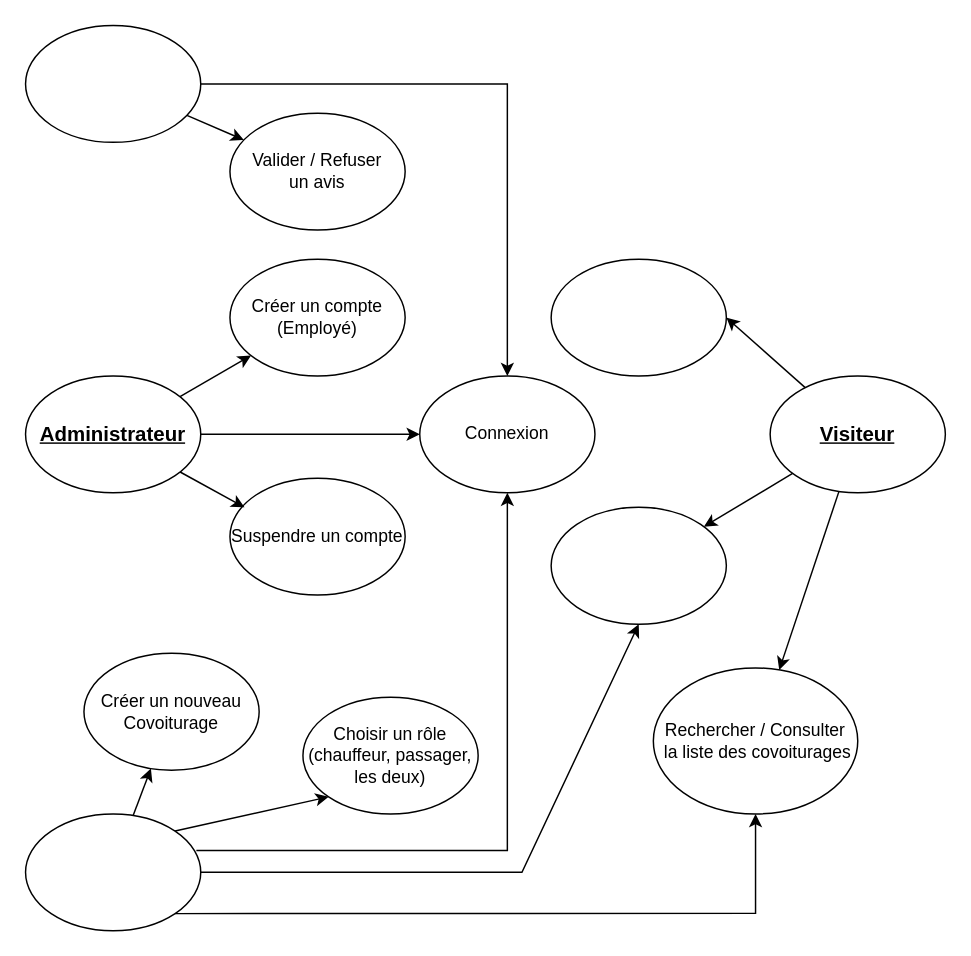
Some shapes in this 971 by 956 pixel diagram are drawn without their labels. Here are the shapes that lost their labels. From the top down, the box of each, then its label:
(24, 24, 201, 142): Employé
(550, 258, 726, 376): Créer un compte
(550, 506, 726, 624): Formulaire de contact
(24, 812, 201, 931): Utilisateurs
